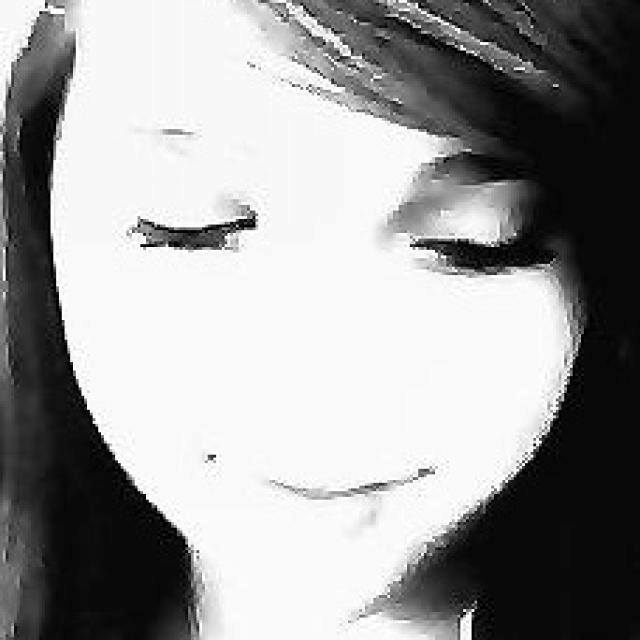real: (50, 2, 582, 636), (104, 182, 568, 305)
